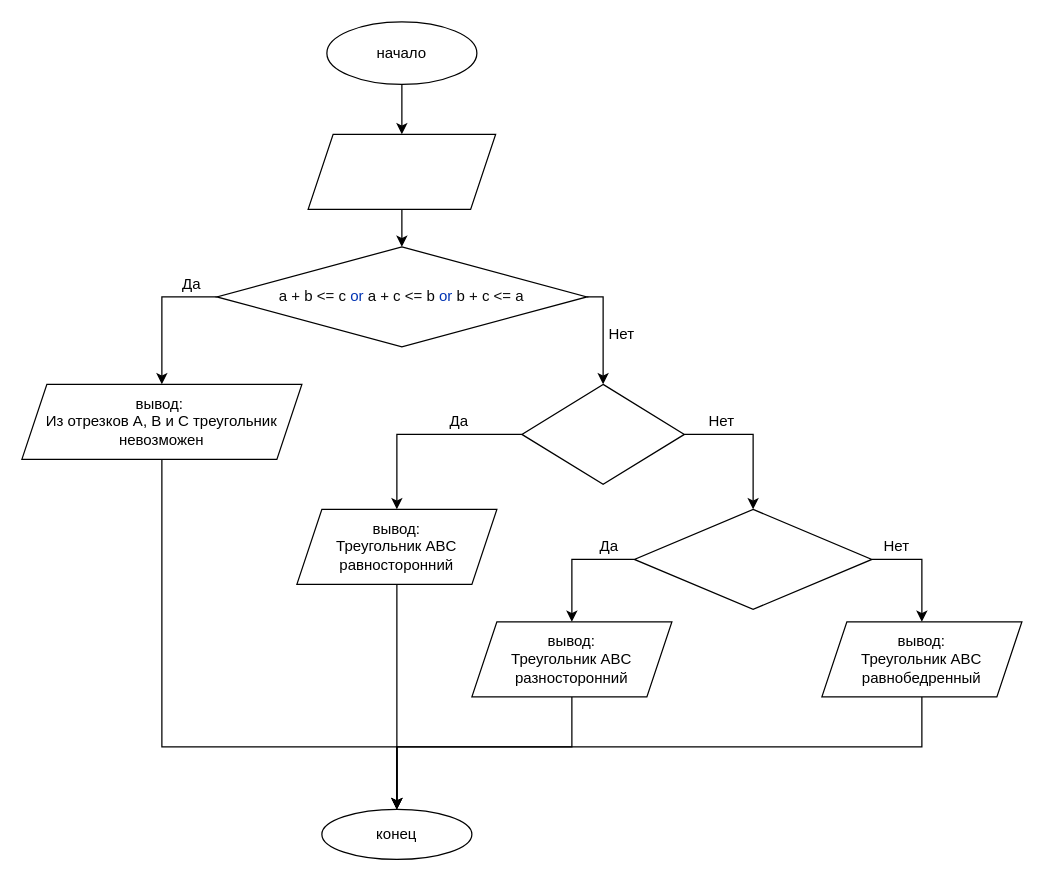
Some shapes in this 1044 by 881 pixel diagram are drawn without their labels. The box of each missing label's shape, as (x1, y1, x2, y2) in pixels:
a != b and a != c and b != c: (633, 508, 872, 609)
a == b == c: (521, 383, 684, 484)
ввод длин отрезков: a, b, c: (307, 133, 496, 209)
